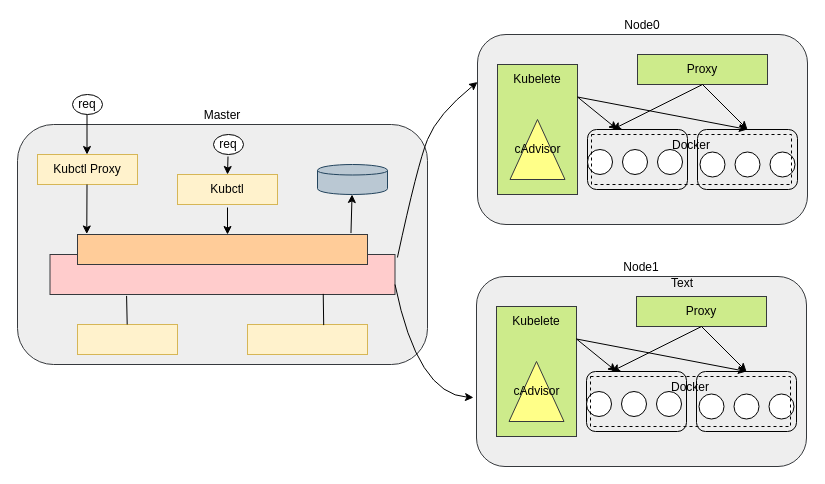
This 825x484 diagram has some shape labels left out. The centre of each missing label's shape, as x and y in pixels:
API Server: [222,274]
Authentication/Authorization/Admission Control: [222,249]
Controller Manager: [307,339]
etcd: [352,179]
Scheduler: [127,339]
